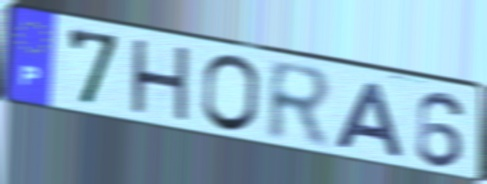6: (414, 89, 467, 170)
7: (66, 25, 121, 112)
A: (329, 79, 408, 161)
H: (127, 36, 193, 130)
O: (199, 52, 263, 136)
R: (264, 57, 337, 153)
